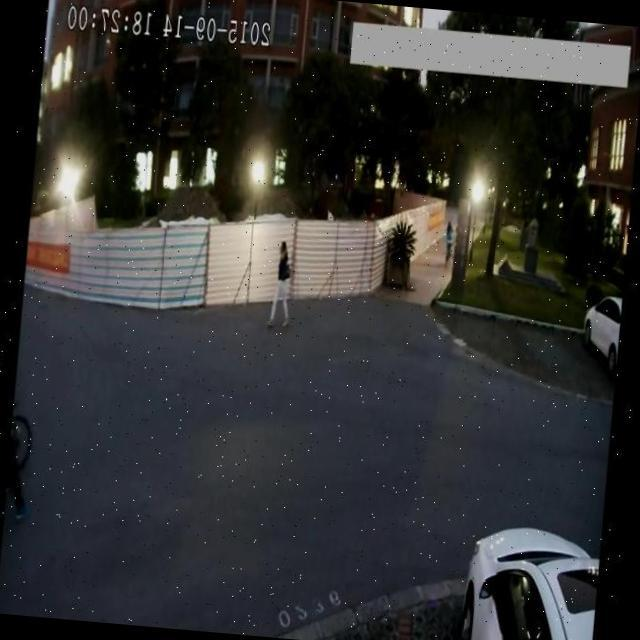person: (262, 230, 298, 336)
